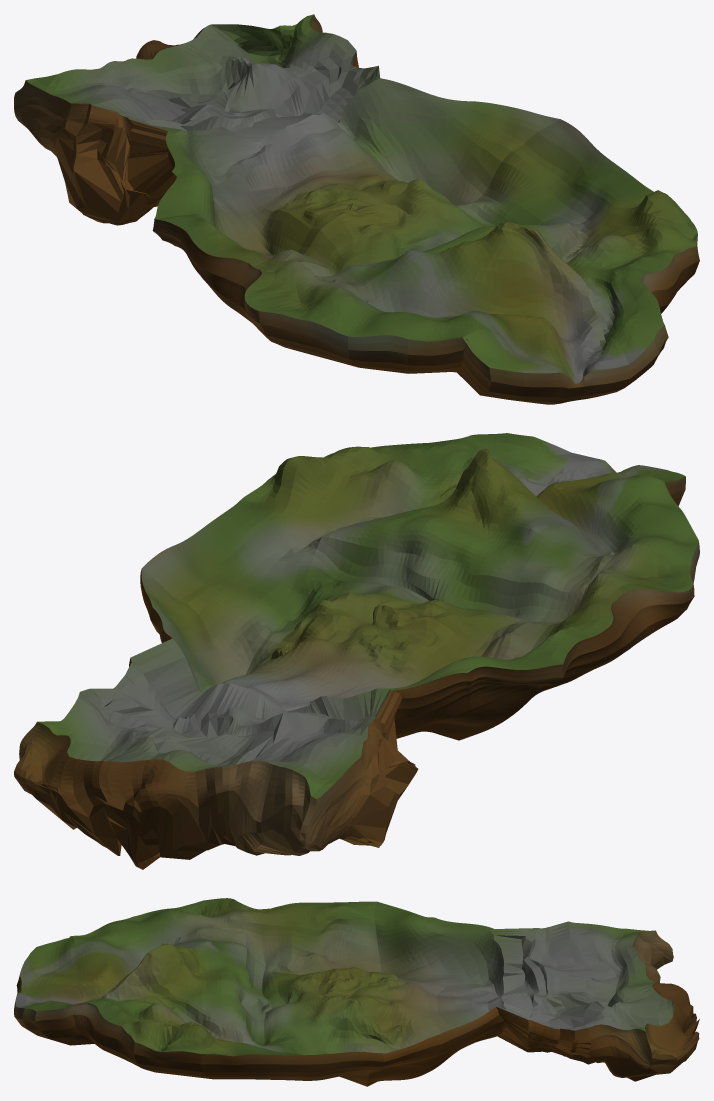
The model's file is MUNDO_vazio_normals.fbx.
3 views of the same model, one above another, from view 1: azimuth 30°, elevation 25°; view 2: azimuth 150°, elevation 25°; view 3: azimuth 270°, elevation 25° (orthographic). The views are drawn at different scales.
Parts seen in each view (by area): view 1: mundo; view 2: mundo; view 3: mundo.
Part boxes in pixels (x1,y1,x2,y2): mundo: [14, 14, 699, 404]; mundo: [14, 433, 699, 869]; mundo: [14, 898, 699, 1086].
Bounding box in the file's own units: 6340 × 2330 × 11799.
